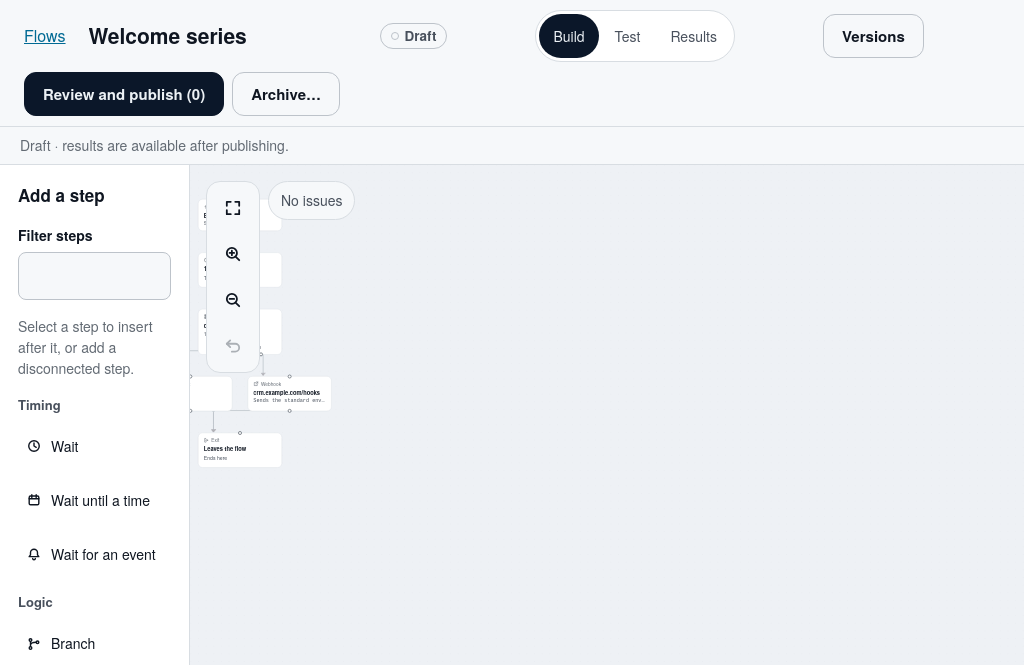
Test: the warm-up state line › appears after the first publish without a reload
Click the button "Review and publish (0)" at (124, 94), box [24,72,224,116]
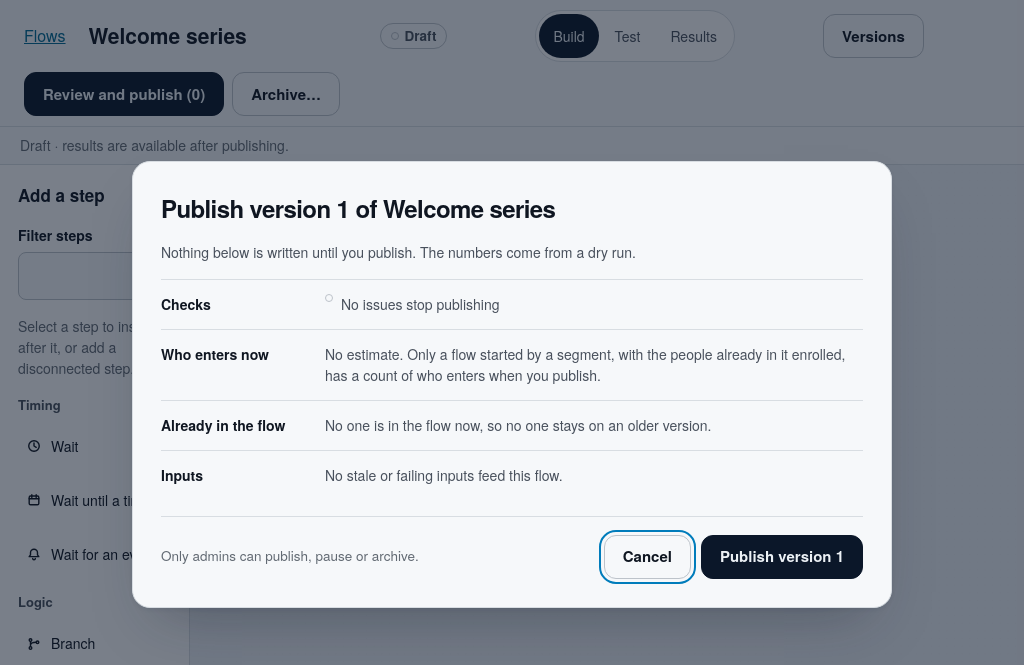
Click the button "Publish version 1" at (782, 556), box [701,534,863,578]
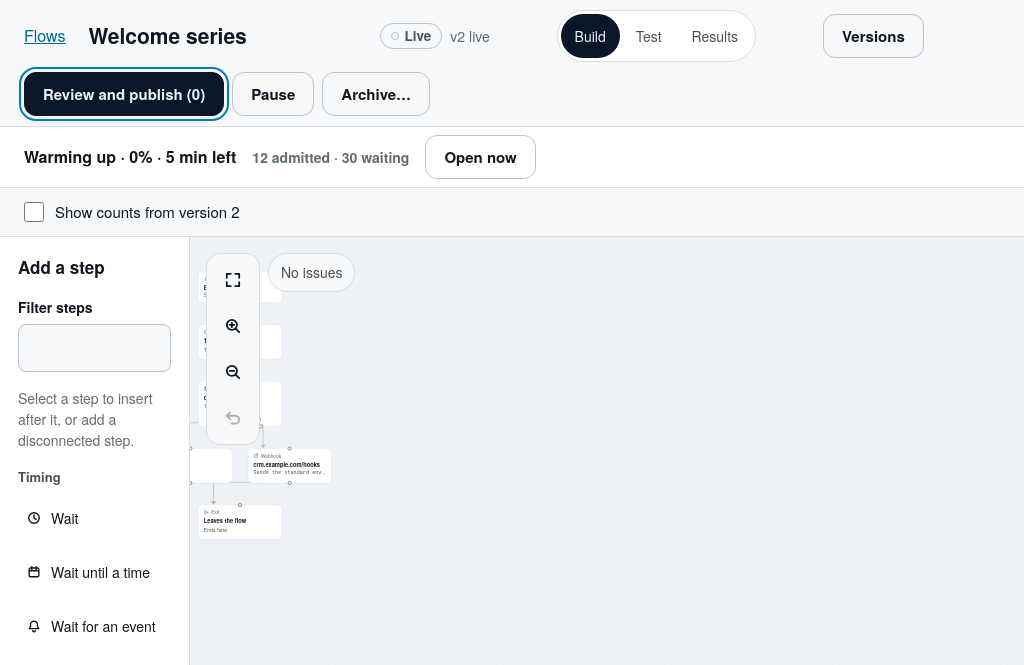
Result: the text "Warming up · 0% · 5 min left" is shown at [24,145,236,169]
